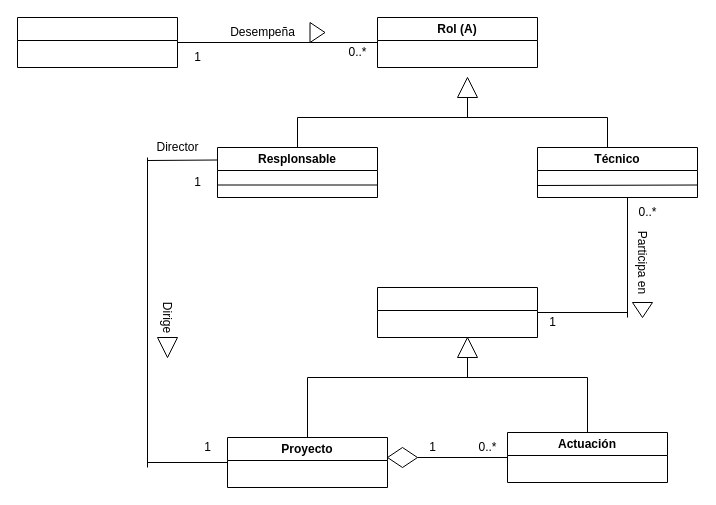
Some shapes in this 716 by 505 pixel diagram are drawn without their labels. The shapes that lost their labels are listed below. From the top down, each one's centre as x and y in pixels, then its label:
the point at 97,42: Persona
the point at 457,312: Intervención (A)
